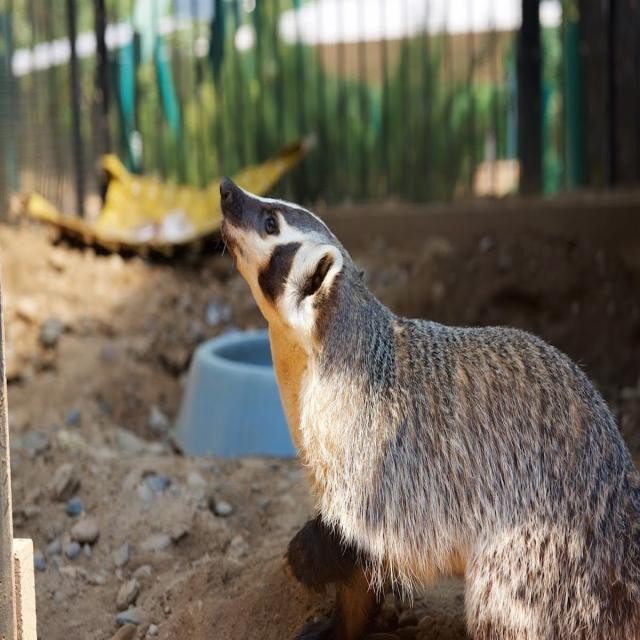Badger: (215, 166, 640, 632)
